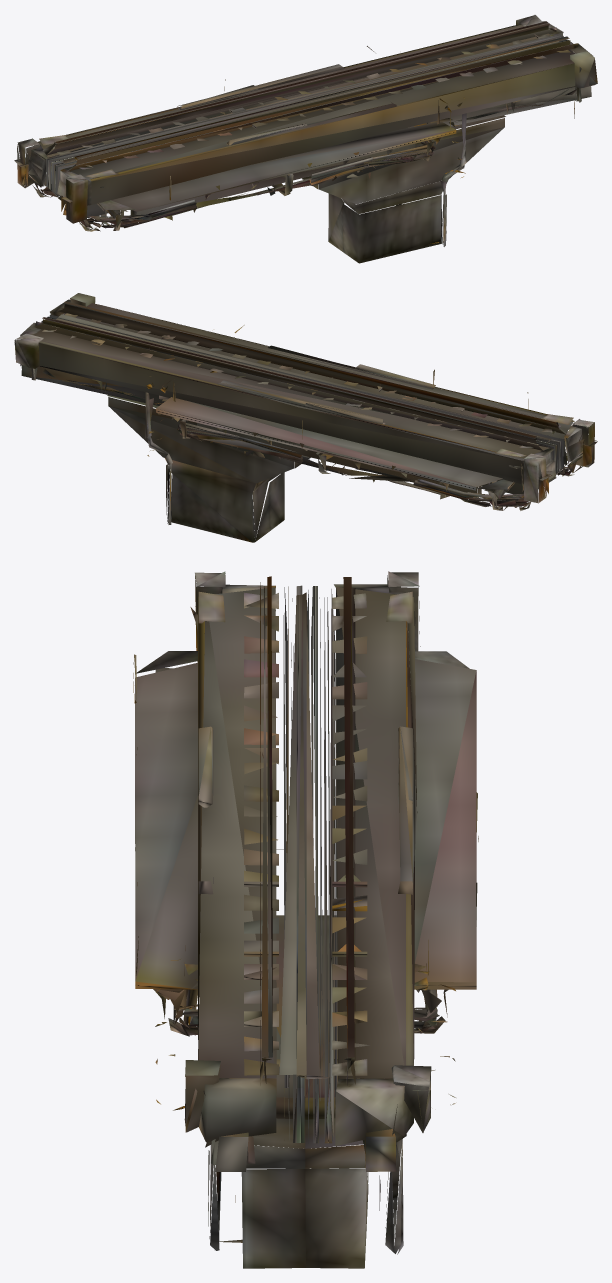
Rendered from viaduct-far.glb.
3 views of the same model, one above another, from view 1: azimuth 30°, elevation 25°; view 2: azimuth 150°, elevation 25°; view 3: azimuth 270°, elevation 25° (orthographic). The views are drawn at different scales.
Visible parts, largest first — view 1: viaduct; view 2: viaduct; view 3: viaduct.
Boxes of the visible parts, x1,y1,x2,y2 form: viaduct: (14,15,597,263); viaduct: (14,293,597,542); viaduct: (133,571,478,1268).
Size of the model in its own units: 24.03 by 7.35 by 6.78.
1 material, 1 textured.
